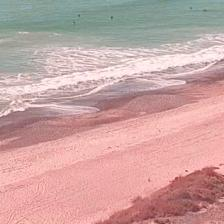surfer: (72, 20, 75, 24), (78, 14, 81, 17), (190, 6, 193, 9), (204, 9, 208, 11), (111, 16, 113, 19)
